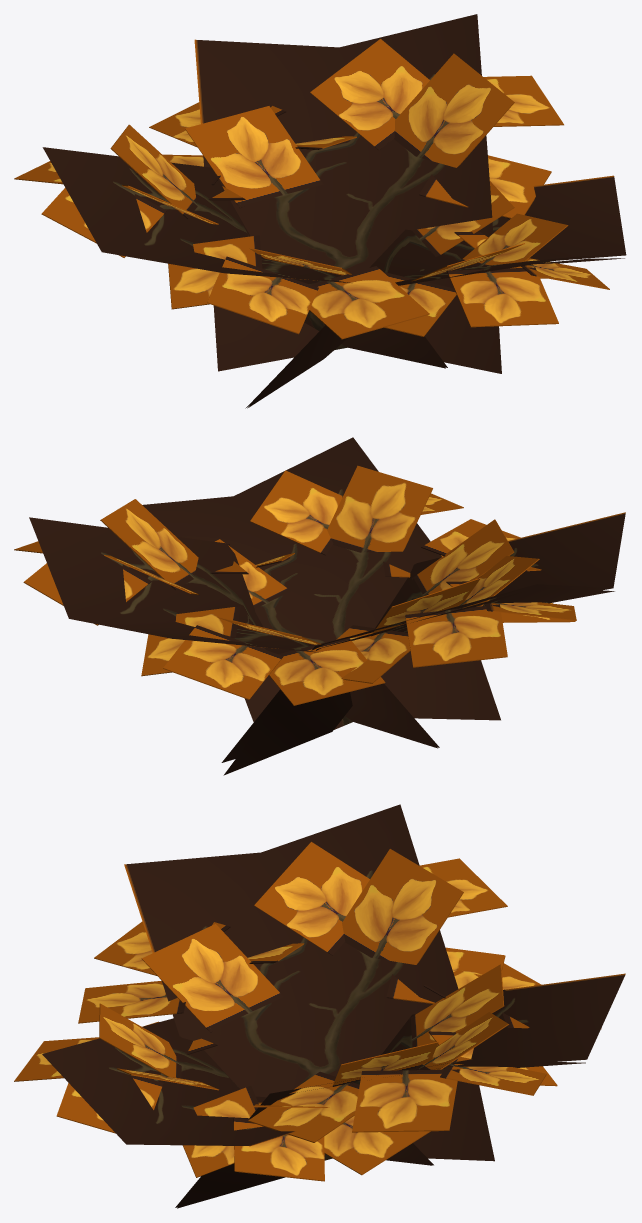
The model's file is bush_04d.fbx.
3 renders of one model, top to bottom at view 1: azimuth 30°, elevation 25°; view 2: azimuth 150°, elevation 25°; view 3: azimuth 270°, elevation 25°, orthographic. The views are drawn at different scales.
Visible parts, largest first — view 1: bush_04d; view 2: bush_04d; view 3: bush_04d.
Part boxes in pixels (left/top/right/bottom): bush_04d: left=14, top=14, right=626, bottom=408; bush_04d: left=14, top=437, right=625, bottom=775; bush_04d: left=14, top=804, right=625, bottom=1208.
Size of the model in its own units: 9.12 by 3.75 by 8.98.
